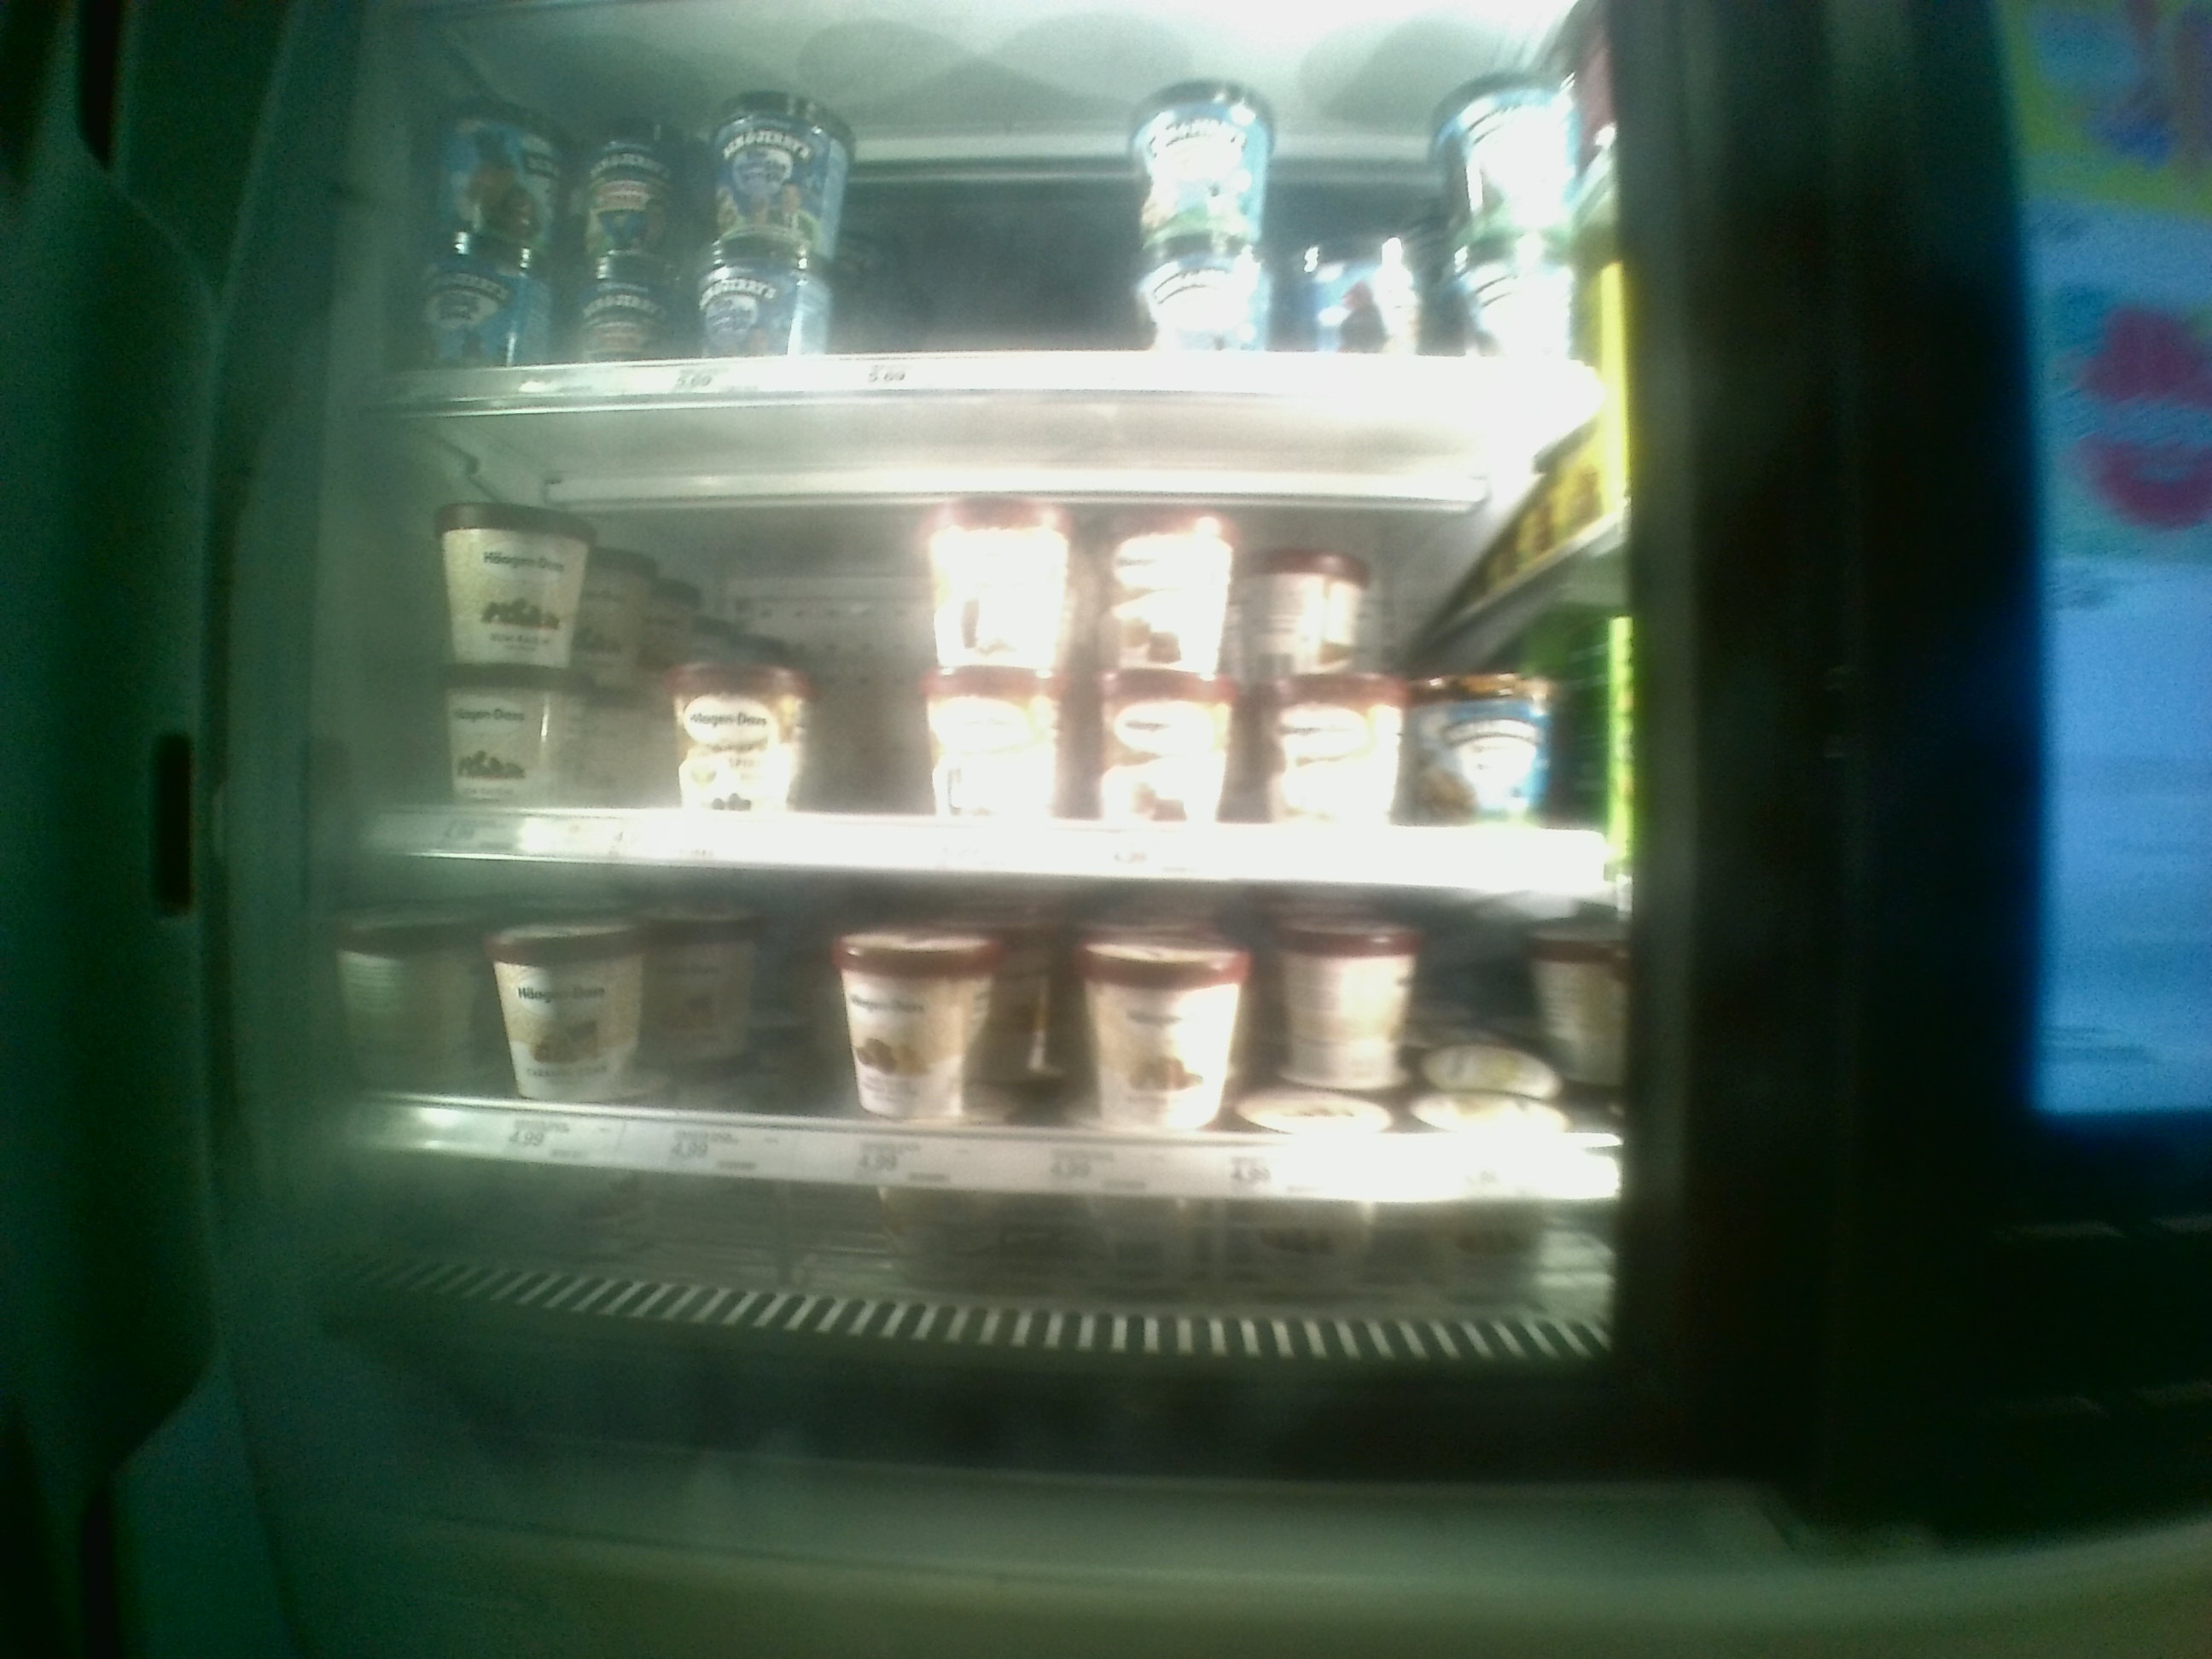shelf: (374, 403, 1634, 899), (347, 863, 1630, 1338)
